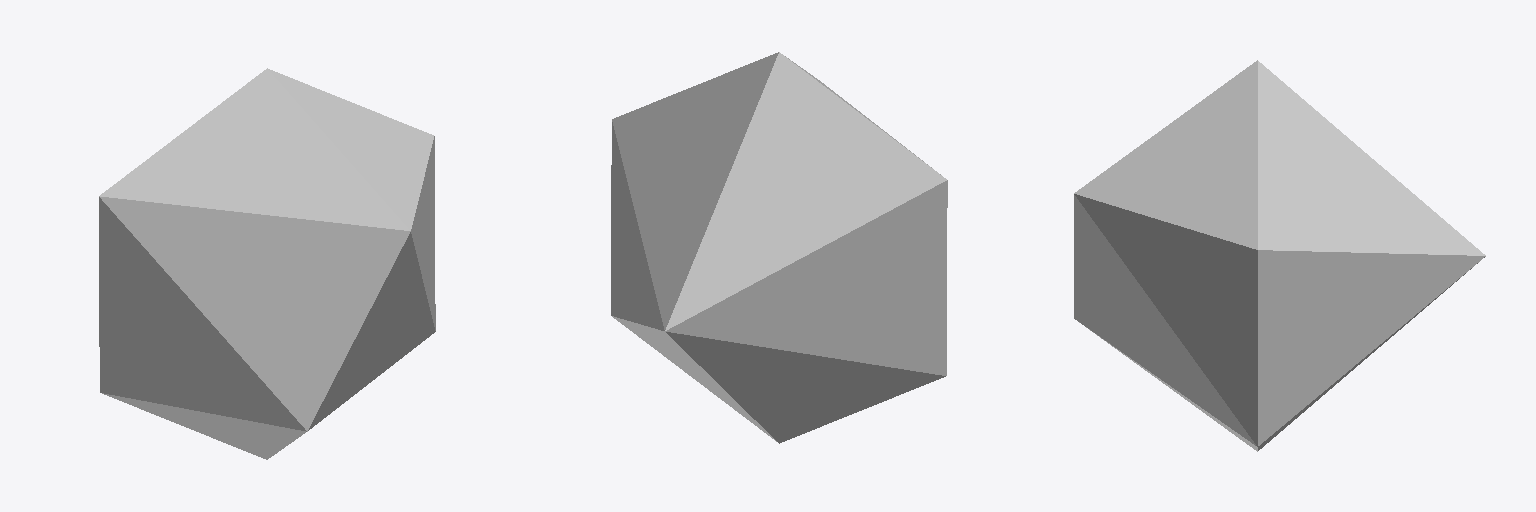
File: lowPolyIco.obj
The picture shows the model from 3 angles: view 1: azimuth 30°, elevation 25°; view 2: azimuth 150°, elevation 25°; view 3: azimuth 270°, elevation 25°; orthographic projection.
Visible parts, largest first — view 1: Icosphere; view 2: Icosphere; view 3: Icosphere.
Boxes of the visible parts, x1,y1,x2,y2 form: Icosphere: [99, 68, 435, 459]; Icosphere: [611, 52, 947, 443]; Icosphere: [1074, 60, 1485, 451].
Size of the model in its own units: 1.8 by 2 by 1.91.